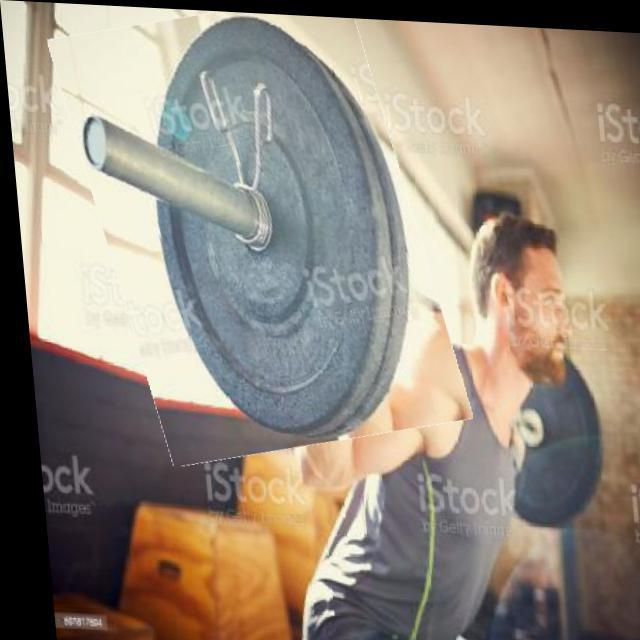barbell: (65, 4, 449, 463)
